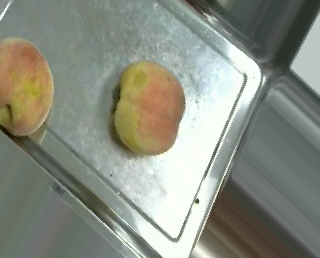Peach: (110, 58, 184, 154), (1, 36, 54, 135)
